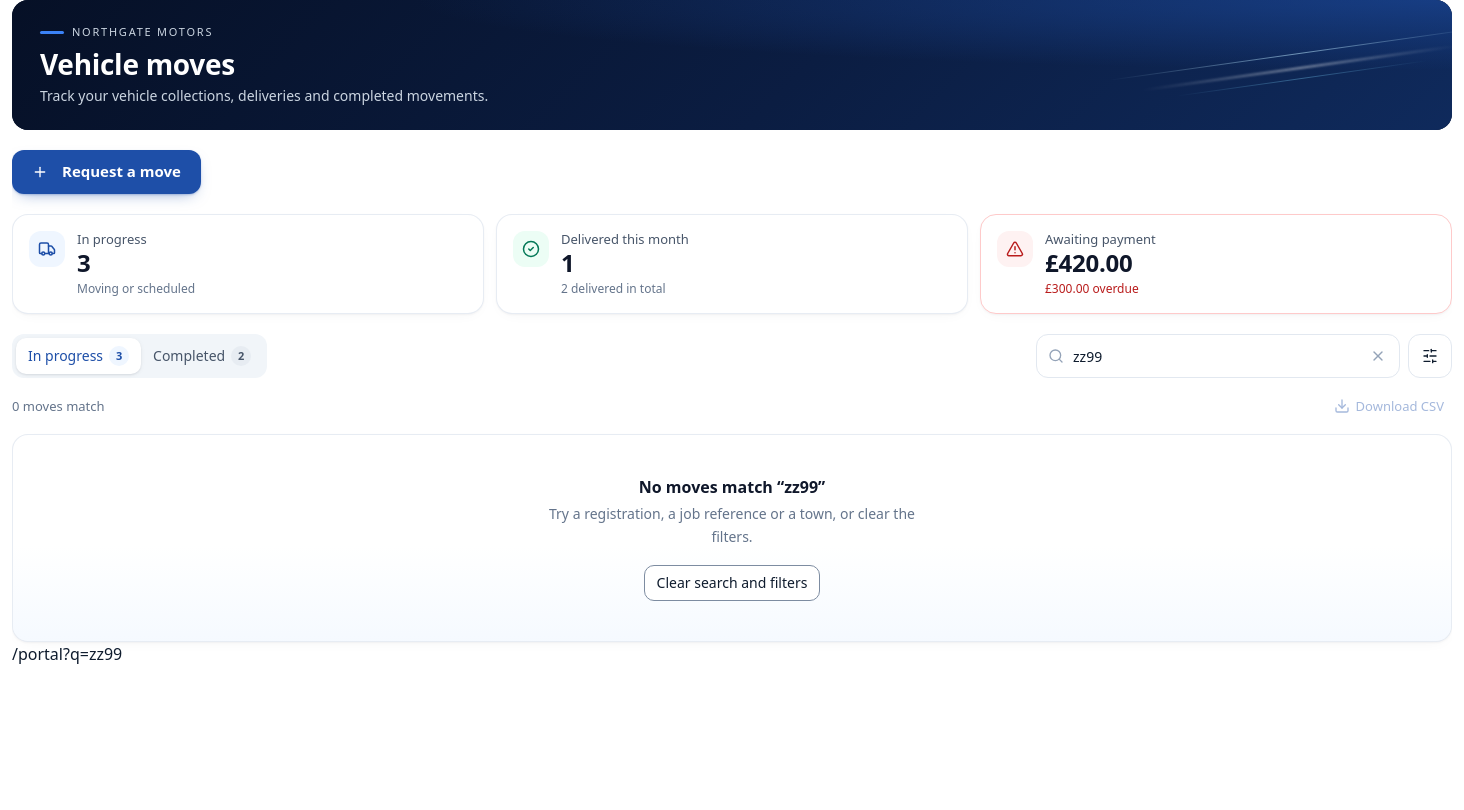
Scenario: Vehicle moves overview › explains an empty search and clears it in one tap
Expected: the text "No moves match “zz99”" is shown, [639,476,825,498]
What coordinates should you click on to do the following:
click the button "Clear search and filters"
I would click on:
 (732, 583)
Its box is [644,565,820,601].
(page scrolled)
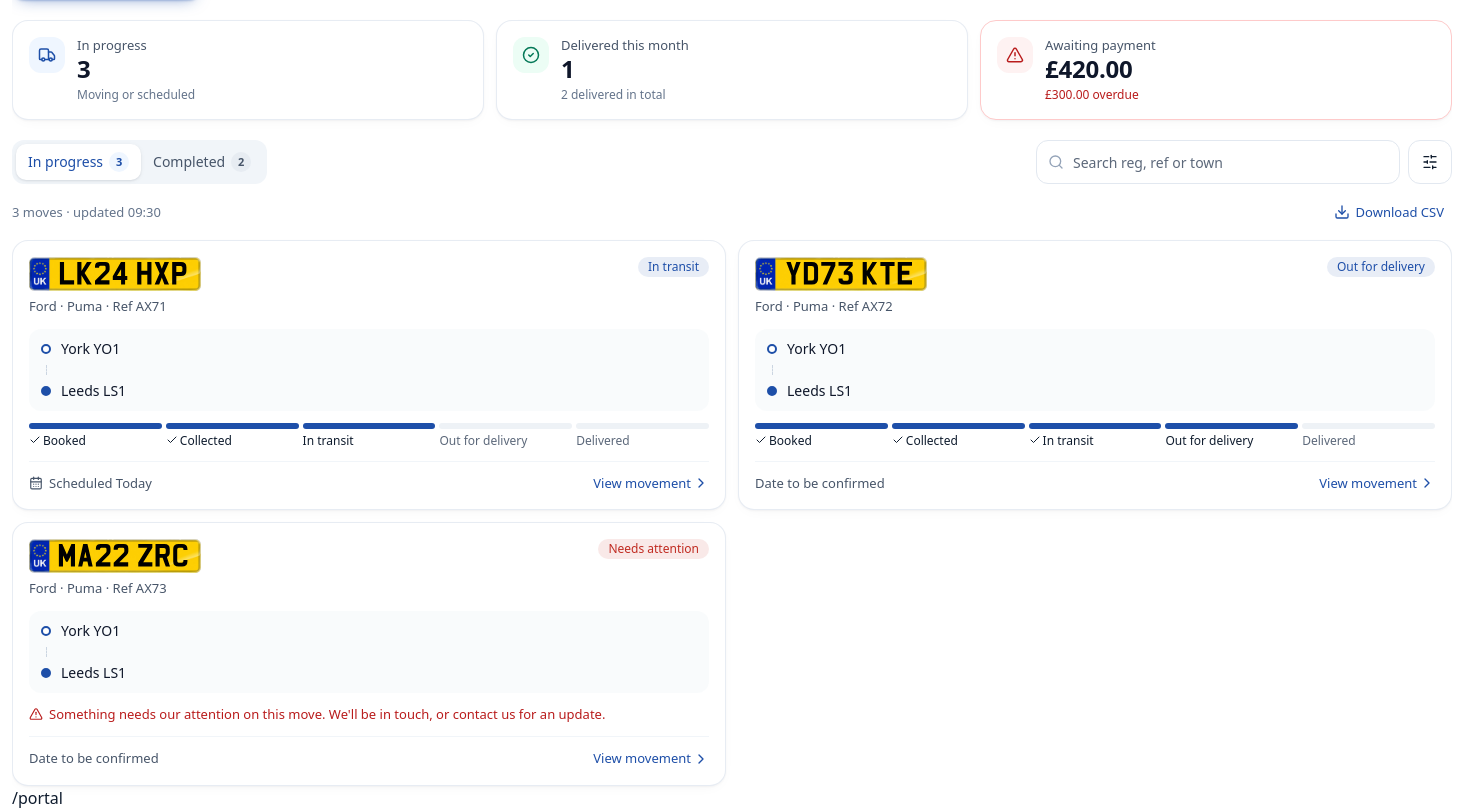
Result: the text with test id "loc" reads "/portal" at [12,786,63,808]
